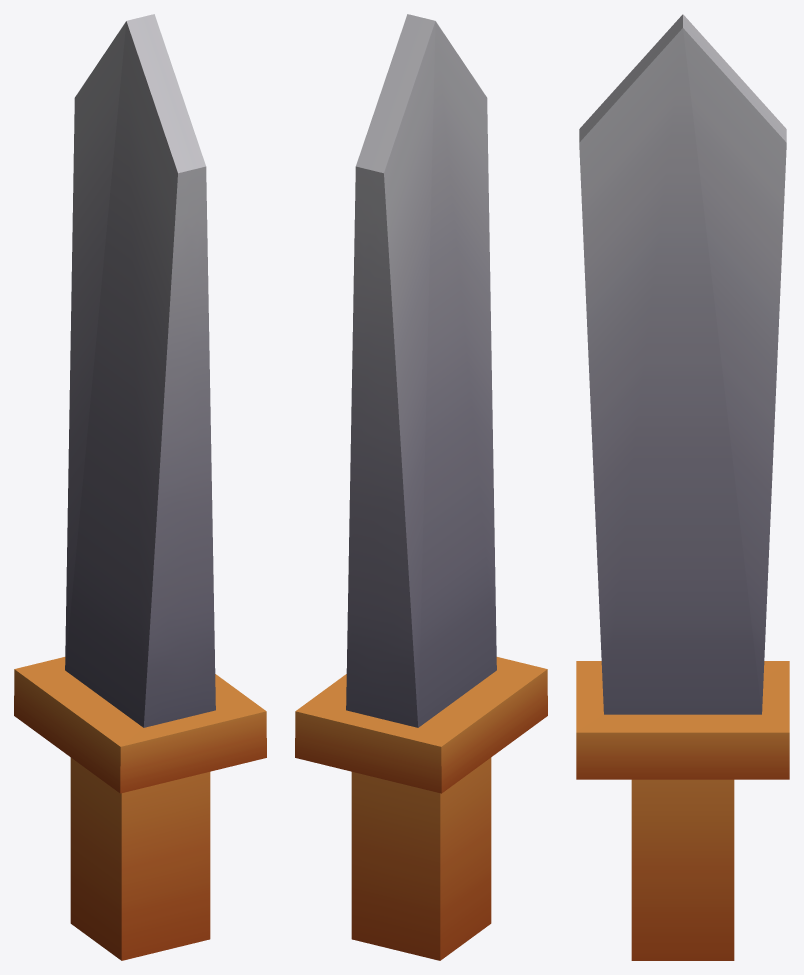
The model's file is SM_Sword.fbx.
3 views of the same model, side by side, from view 1: azimuth 30°, elevation 25°; view 2: azimuth 150°, elevation 25°; view 3: azimuth 270°, elevation 25° (orthographic).
Visible parts, largest first — view 1: SM_Sword; view 2: SM_Sword; view 3: SM_Sword.
Part boxes in pixels (x1=…): SM_Sword: x1=14, y1=14, x2=266, y2=960; SM_Sword: x1=295, y1=14, x2=547, y2=960; SM_Sword: x1=576, y1=14, x2=789, y2=960.
Size of the model in its own units: 0.4874 by 2.9 by 0.6116.
